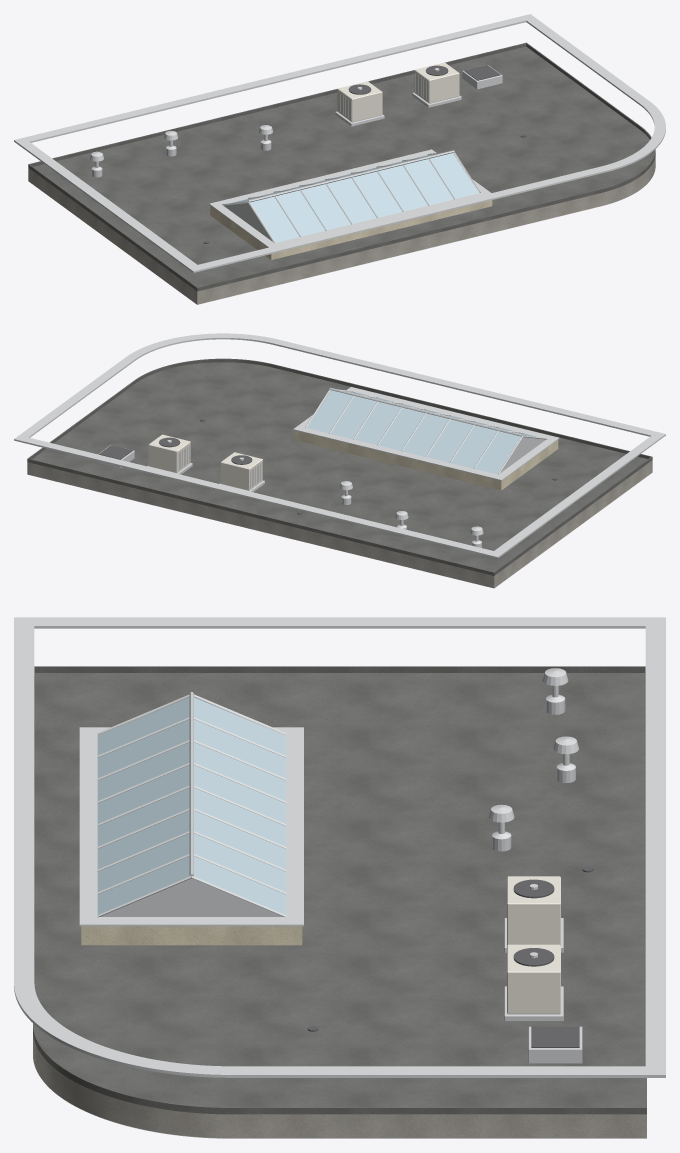
File: roof.glb
3 renders of one model, top to bottom at view 1: azimuth 30°, elevation 25°; view 2: azimuth 150°, elevation 25°; view 3: azimuth 270°, elevation 25°, orthographic. The views are drawn at different scales.
Parts seen in each view (by area): view 1: roof_membrane, roof_coping, roof_glass, roof_concrete, roof_cream, roof_metal, roof_frame, roof_render, roof_dark, roof_ceil; view 2: roof_membrane, roof_coping, roof_glass, roof_concrete, roof_render, roof_cream, roof_frame, roof_metal, roof_dark, roof_ceil; view 3: roof_membrane, roof_coping, roof_glass, roof_concrete, roof_frame, roof_cream, roof_metal, roof_render, roof_dark.
Boxes of the visible parts, <box> form: roof_membrane: <box>28,42,655,291</box>; roof_coping: <box>14,14,665,272</box>; roof_glass: <box>231,153,478,242</box>; roof_concrete: <box>28,155,655,304</box>; roof_cream: <box>337,62,459,122</box>; roof_metal: <box>90,65,502,177</box>; roof_frame: <box>222,150,480,242</box>; roof_render: <box>210,200,492,259</box>; roof_dark: <box>203,65,526,243</box>; roof_ceil: <box>28,177,652,304</box>; roof_membrane: <box>27,358,652,575</box>; roof_coping: <box>14,333,665,558</box>; roof_glass: <box>307,390,538,474</box>; roof_concrete: <box>27,460,652,587</box>; roof_render: <box>294,430,558,490</box>; roof_cream: <box>148,434,262,490</box>; roof_frame: <box>305,388,547,474</box>; roof_metal: <box>97,440,483,547</box>; roof_dark: <box>99,418,557,514</box>; roof_ceil: <box>28,473,651,588</box>; roof_membrane: <box>33,666,646,1114</box>; roof_coping: <box>14,617,665,1077</box>; roof_glass: <box>97,697,285,914</box>; roof_concrete: <box>33,1035,646,1138</box>; roof_frame: <box>97,692,286,917</box>; roof_cream: <box>507,876,560,1014</box>; roof_metal: <box>489,668,582,1063</box>; roof_render: <box>81,926,302,945</box>; roof_dark: <box>307,866,593,1047</box>.
Size of the model in its own units: 20.1 by 1.84 by 12.1.
10 materials, 3 textured.
